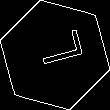L_W: (27, 33, 83, 77)
